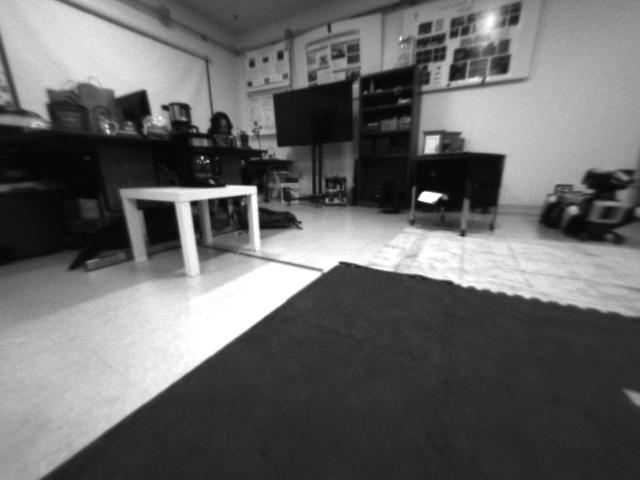coffee_pot: (172, 128, 228, 189)
